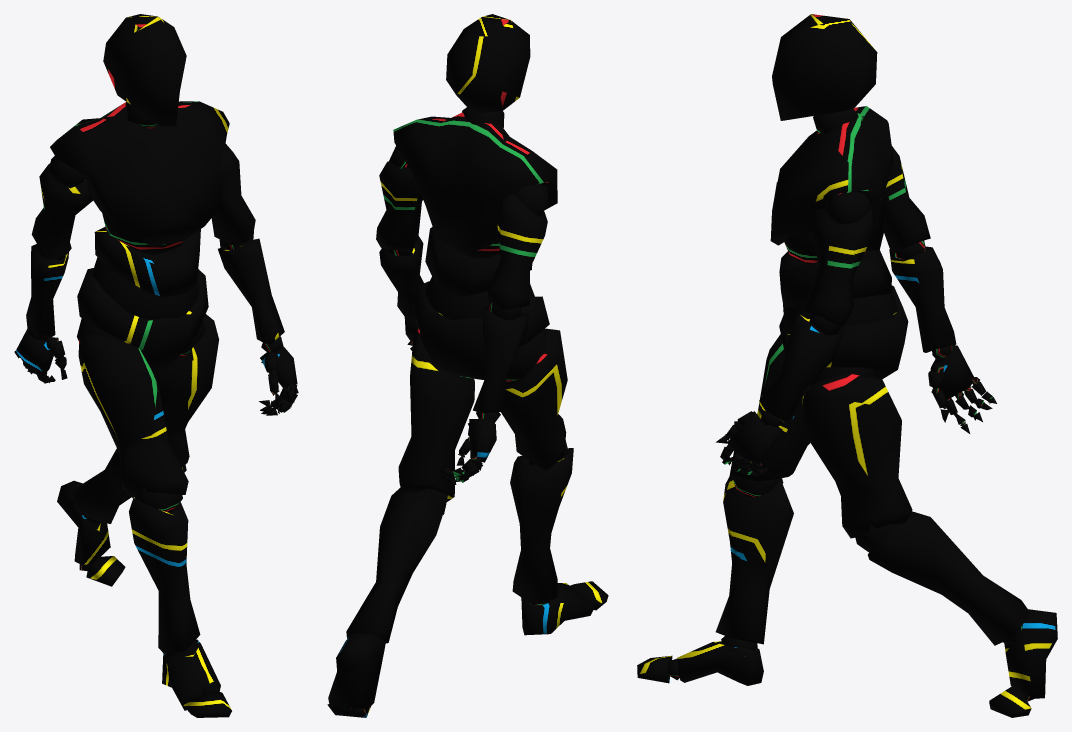
Rendered from y-bot-origin_000009.obj.
The picture shows the model from 3 angles, left to right: view 1: azimuth 30°, elevation 25°; view 2: azimuth 150°, elevation 25°; view 3: azimuth 270°, elevation 25°; orthographic projection. The views are drawn at different scales.
Parts seen in each view (by area): view 1: Alpha_Surface_Alpha_SurfaceMesh, Alpha_Joints_Alpha_JointsMesh; view 2: Alpha_Surface_Alpha_SurfaceMesh, Alpha_Joints_Alpha_JointsMesh; view 3: Alpha_Surface_Alpha_SurfaceMesh, Alpha_Joints_Alpha_JointsMesh.
Part boxes in pixels (x1,y1,x2,y2): Alpha_Surface_Alpha_SurfaceMesh: [16, 14, 297, 717]; Alpha_Joints_Alpha_JointsMesh: [14, 102, 298, 694]; Alpha_Surface_Alpha_SurfaceMesh: [327, 14, 608, 717]; Alpha_Joints_Alpha_JointsMesh: [351, 107, 577, 716]; Alpha_Surface_Alpha_SurfaceMesh: [637, 14, 1057, 717]; Alpha_Joints_Alpha_JointsMesh: [667, 108, 1034, 701].
Bounding box in the file's own units: 0.5565 × 1.75 × 0.9937.
